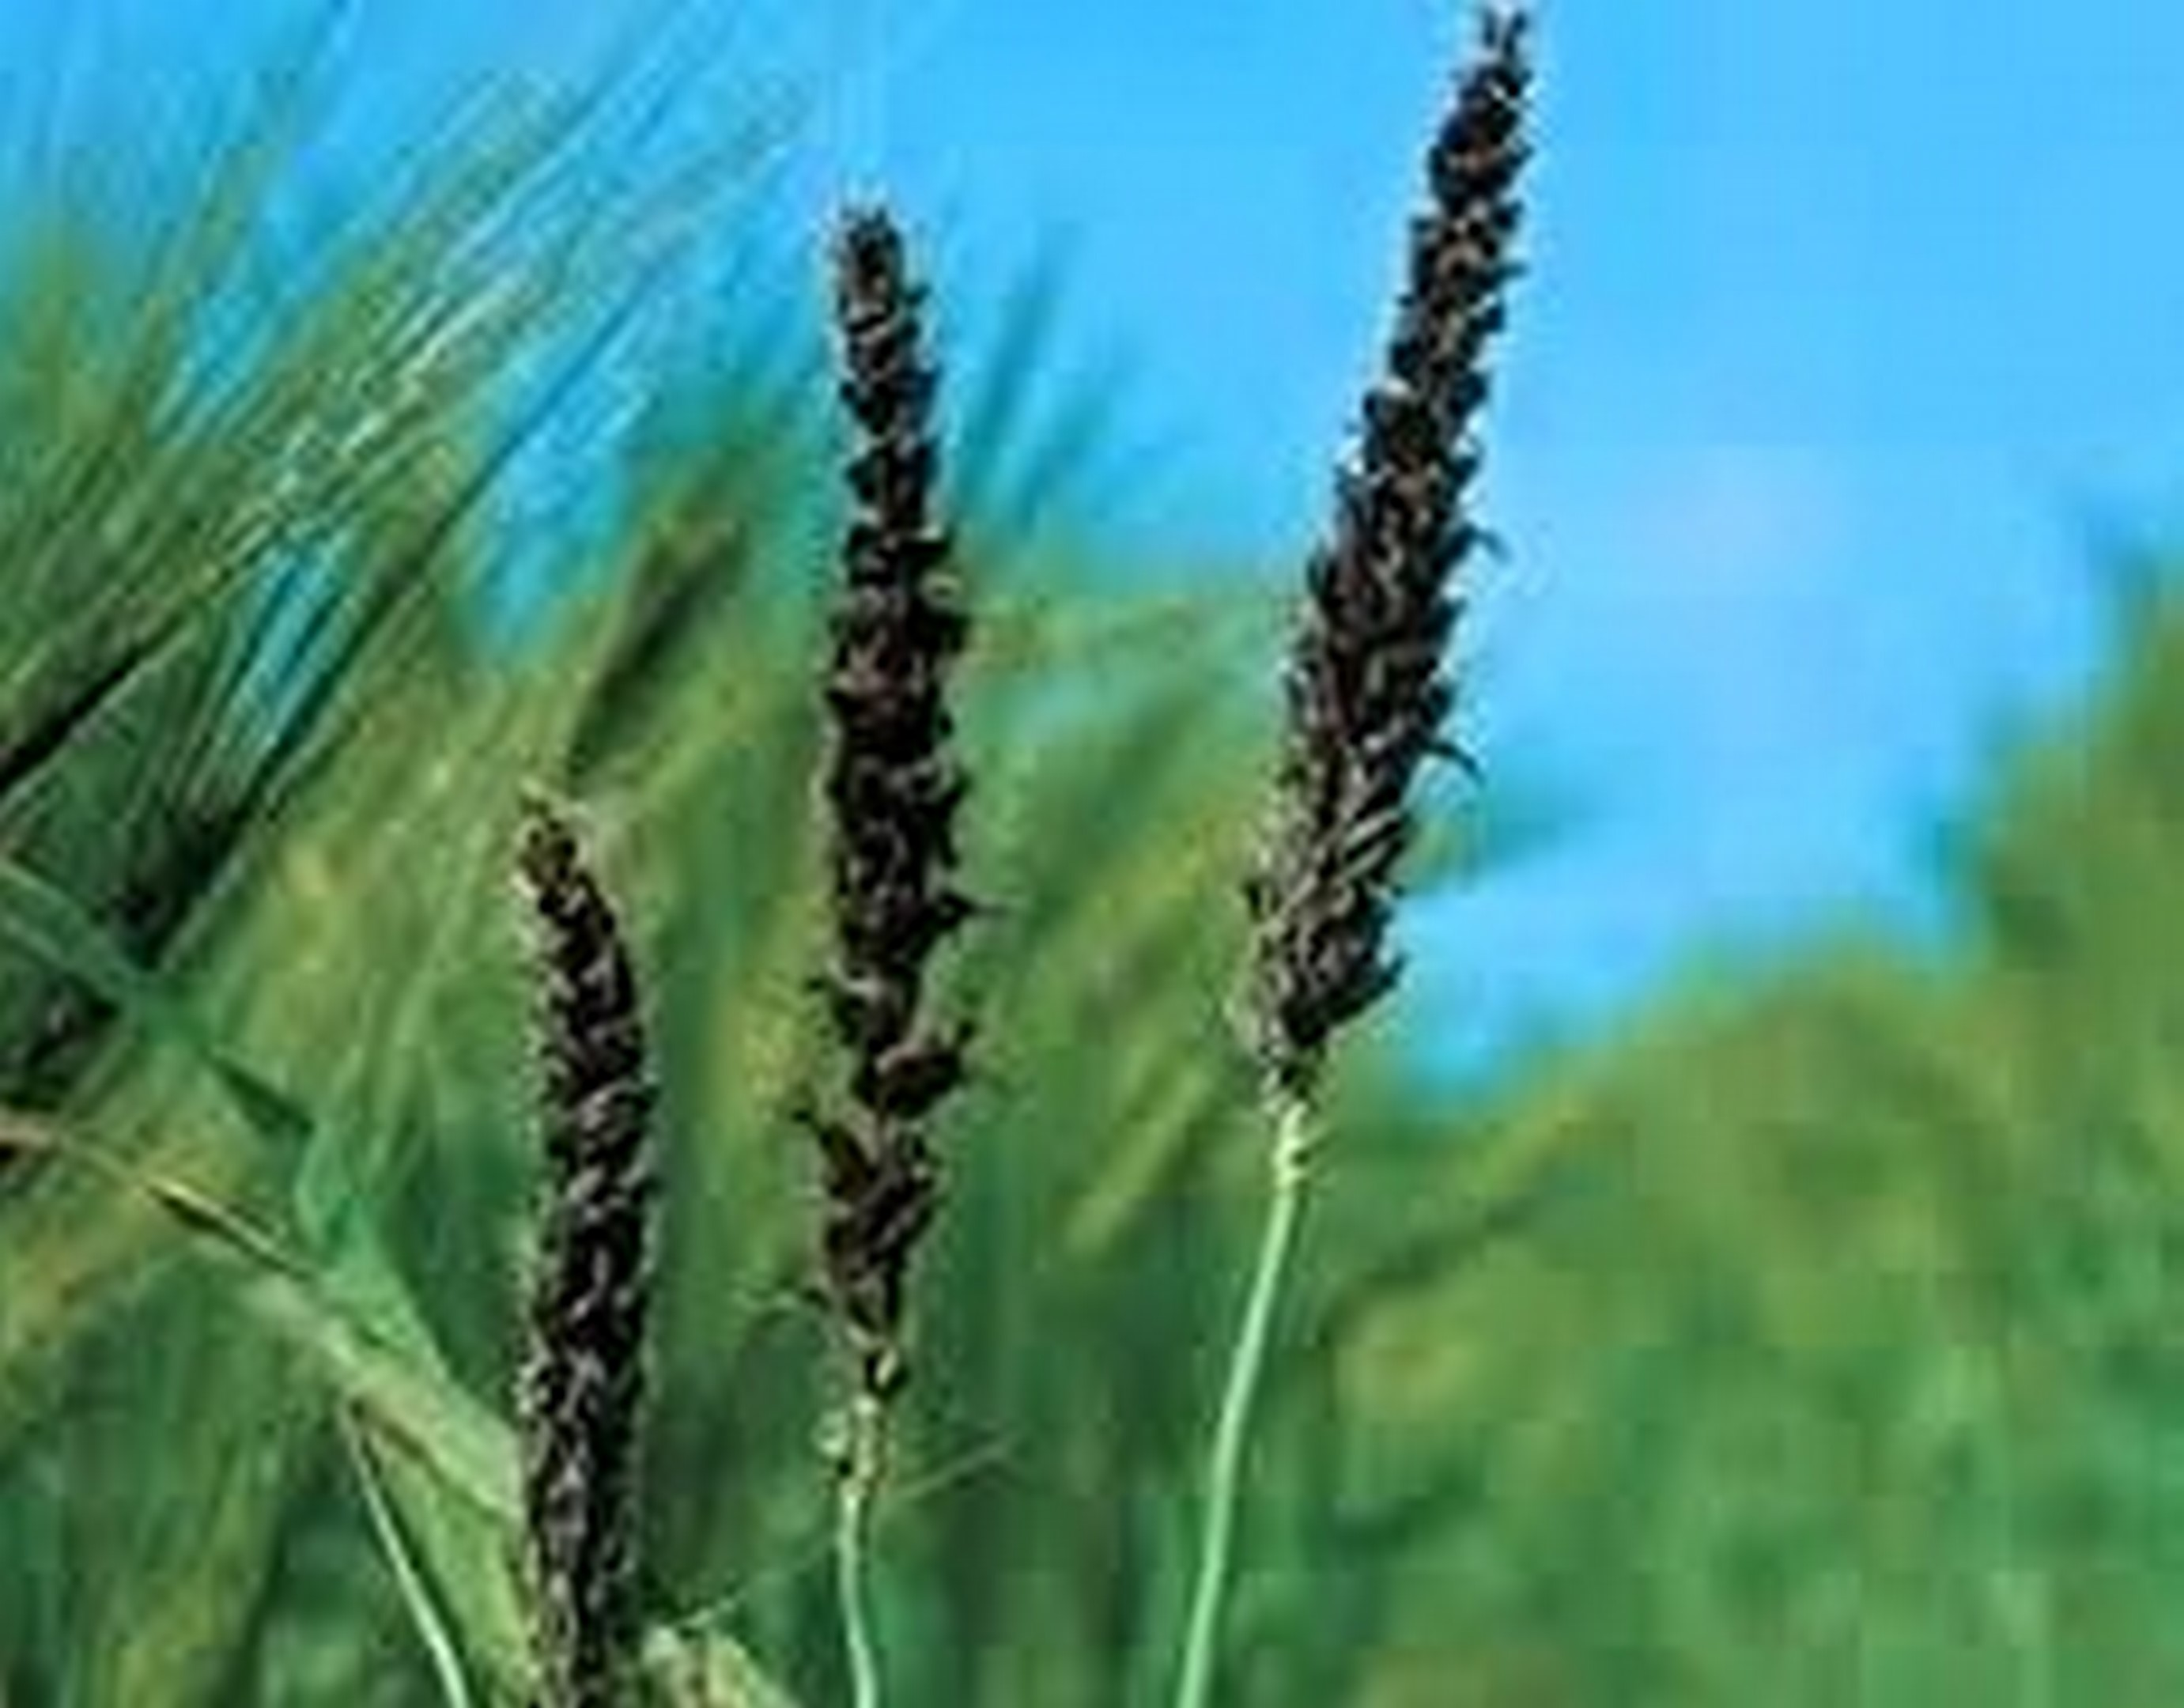Wheat Loose Smut: (1156, 23, 1558, 1116), (730, 186, 1048, 1348), (417, 796, 734, 1628)
